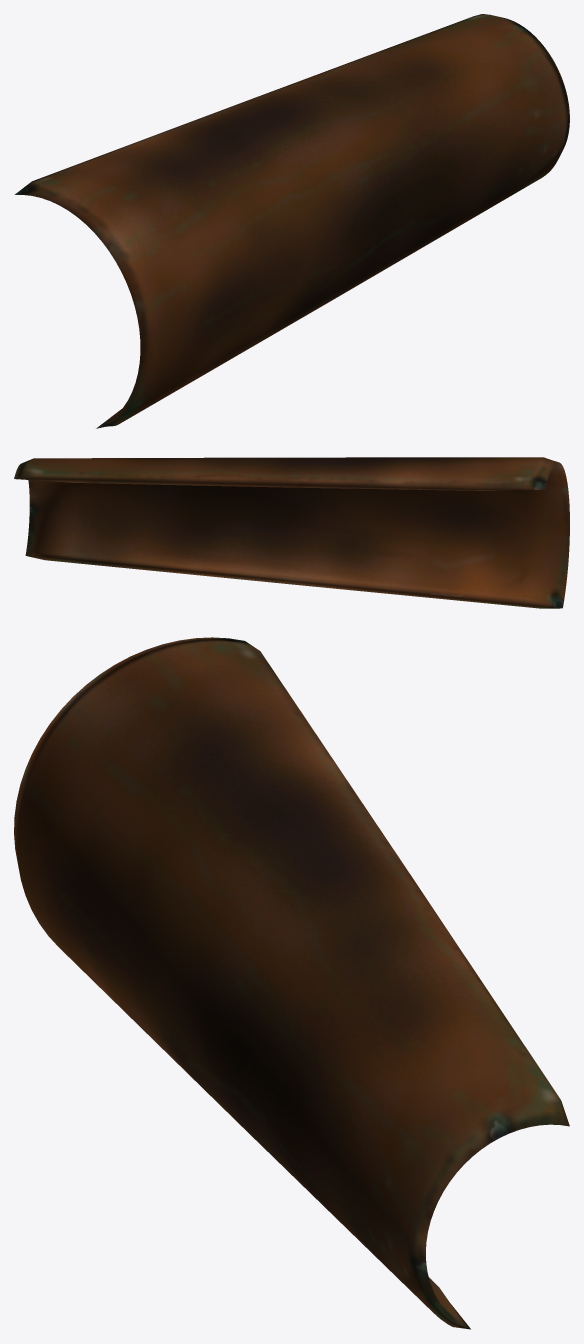
The model's file is telha-colorida3 1.glb.
3 renders of one model, top to bottom at view 1: azimuth 30°, elevation 25°; view 2: azimuth 150°, elevation 25°; view 3: azimuth 270°, elevation 25°, orthographic. The views are drawn at different scales.
Visible parts, largest first — view 1: node_id75; view 2: node_id75; view 3: node_id75.
Boxes of the visible parts, x1,y1,x2,y2 form: node_id75: (14, 14, 569, 428); node_id75: (14, 457, 569, 608); node_id75: (14, 637, 569, 1329).
Bounding box in the file's own units: 1.41 × 0.4759 × 0.7582.
Materials: 1 (1 with a texture image).
